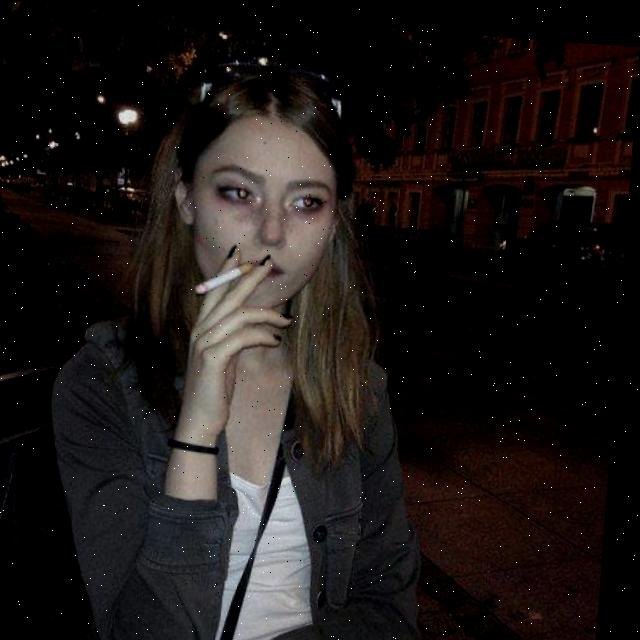cigarette: (199, 256, 259, 295)
